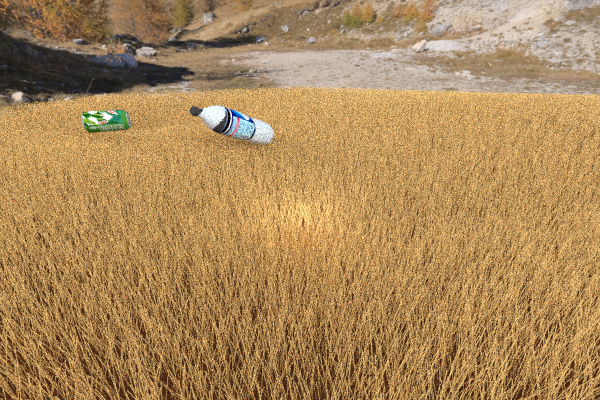Plastic Bottle: (189, 105, 274, 145), (40, 103, 86, 129), (81, 109, 131, 132)
